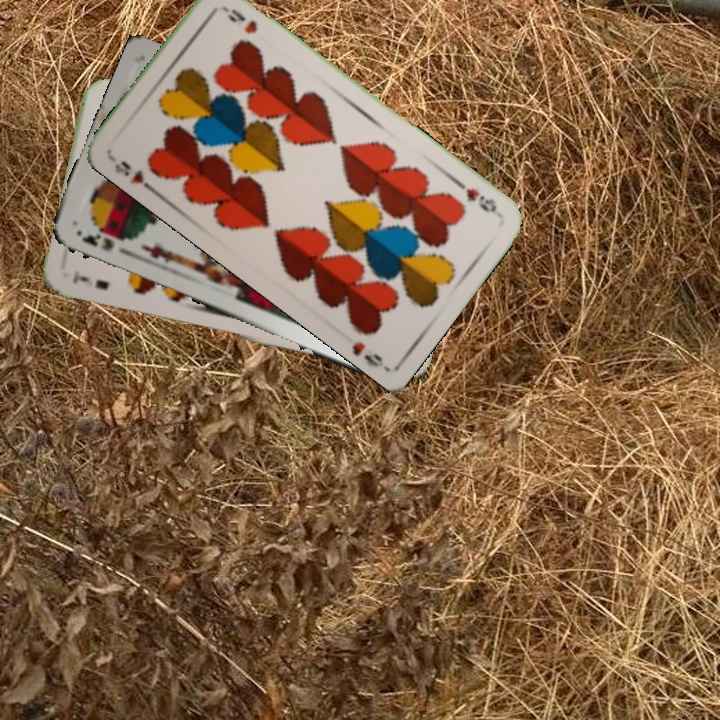E7: (69, 269, 112, 293)
H9: (107, 152, 157, 195), (462, 184, 503, 217)
SK: (78, 230, 116, 254)
